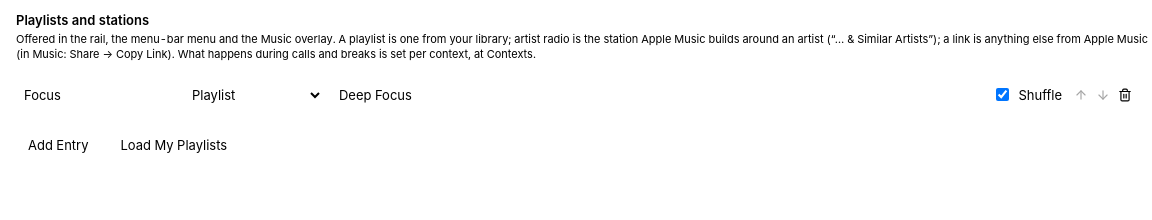
Test: MusicPage › list actions › adds a New entry playlist
The width and height of the screenshot is (1152, 220).
Click the button "Add Entry".
click(58, 145)  # box [16,134,100,156]
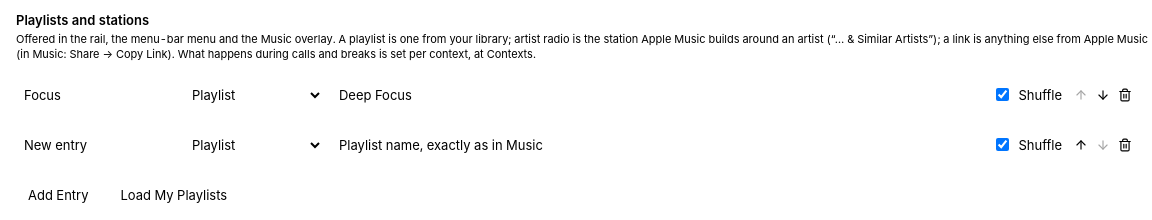
Result: the number of fields named "Name" is 2 at [16,84,172,106]; [16,134,172,156]
